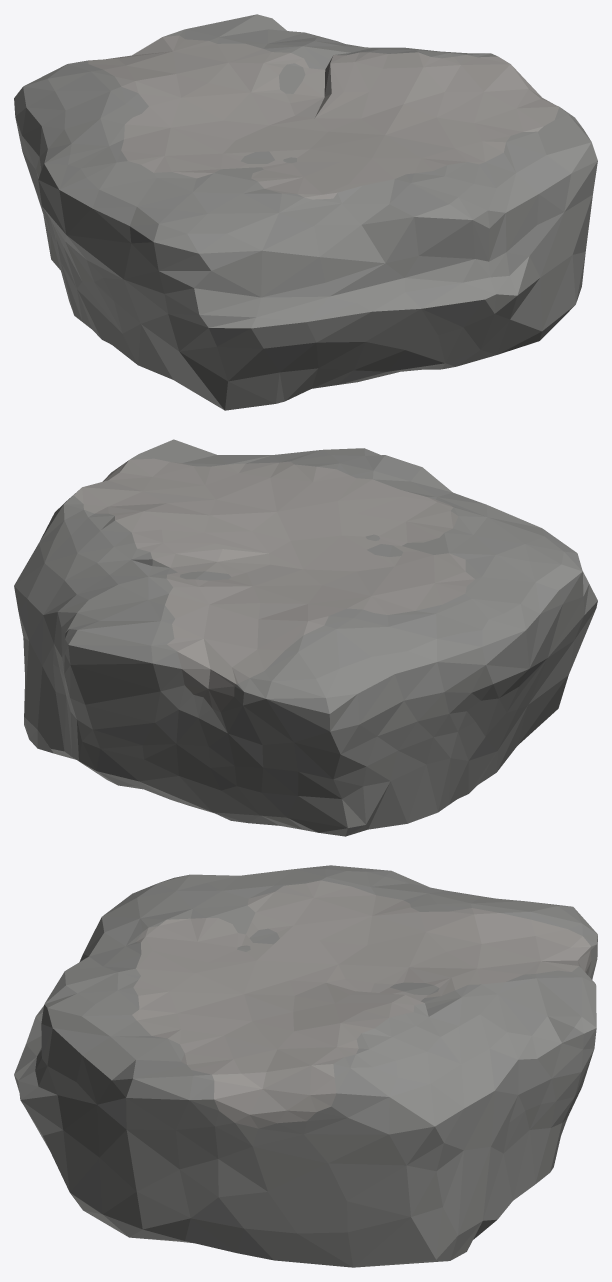
Rendered from Cavern_Floor_Narrow_Corner-02.fbx.
3 views of the same model, one above another, from view 1: azimuth 30°, elevation 25°; view 2: azimuth 150°, elevation 25°; view 3: azimuth 270°, elevation 25° (orthographic). The views are drawn at different scales.
Visible parts, largest first — view 1: Cavern_Floor_Narrow_Corner-02; view 2: Cavern_Floor_Narrow_Corner-02; view 3: Cavern_Floor_Narrow_Corner-02.
Boxes of the visible parts, <box> form: Cavern_Floor_Narrow_Corner-02: <box>14,14,597,410</box>; Cavern_Floor_Narrow_Corner-02: <box>14,439,597,836</box>; Cavern_Floor_Narrow_Corner-02: <box>14,865,597,1267</box>.
Bounding box in the file's own units: 1174 × 510 × 1231.
1 material, 1 textured.
